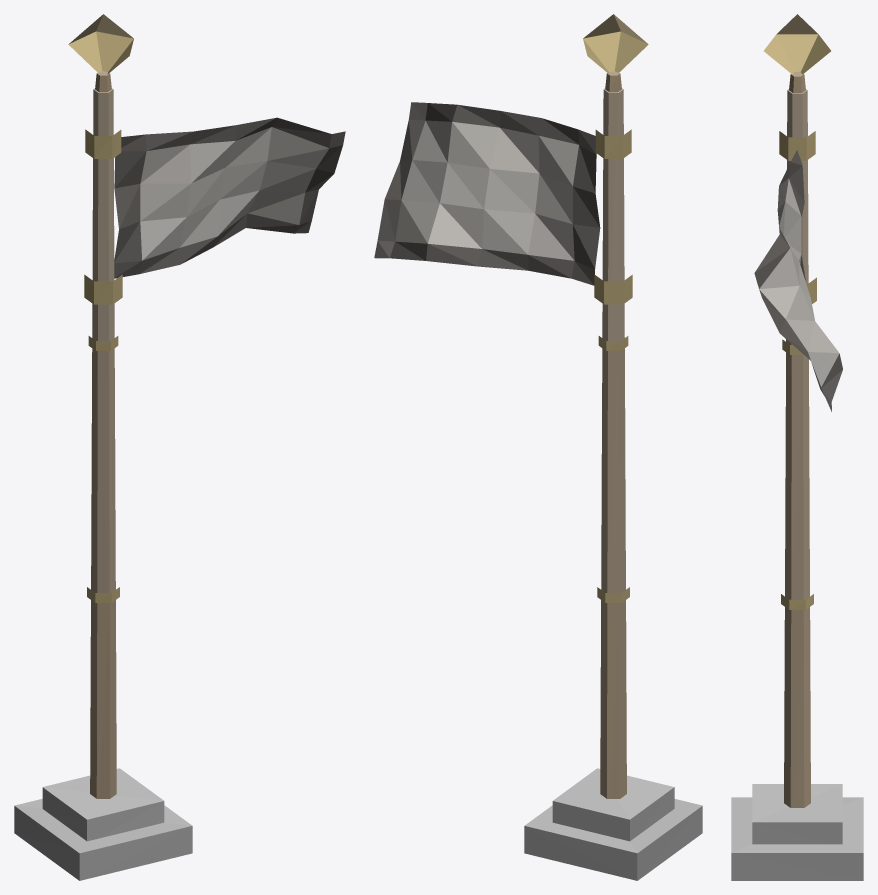
The model's file is flag.rect.suqi__pole.ground.gaogan__masthead.glb.
3 renders of one model, left to right at view 1: azimuth 30°, elevation 25°; view 2: azimuth 150°, elevation 25°; view 3: azimuth 270°, elevation 25°, orthographic.
Parts seen in each view (by area): view 1: flag.rect.suqi; view 2: flag.rect.suqi; view 3: flag.rect.suqi.
Part boxes in pixels (x1=…): flag.rect.suqi: x1=14, y1=14, x2=345, y2=880; flag.rect.suqi: x1=374, y1=14, x2=702, y2=880; flag.rect.suqi: x1=731, y1=14, x2=863, y2=880.
Bounding box in the file's own units: 2.01 × 5.72 × 0.816.
